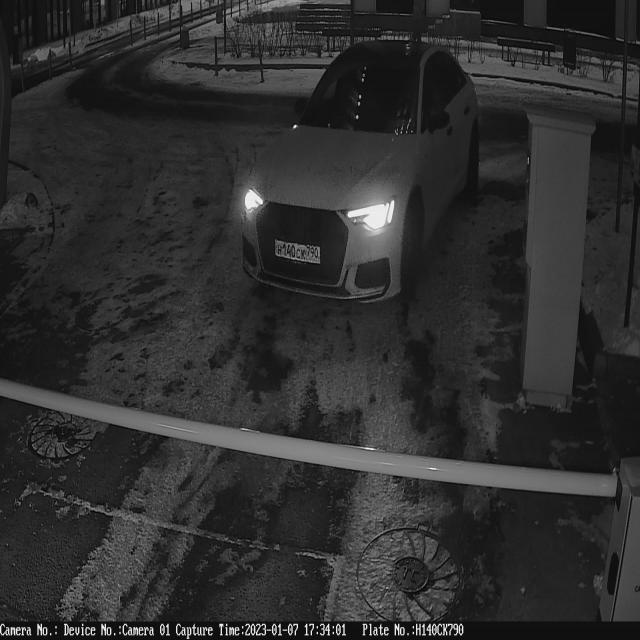car-plate-numbers: (274, 234, 323, 269)
